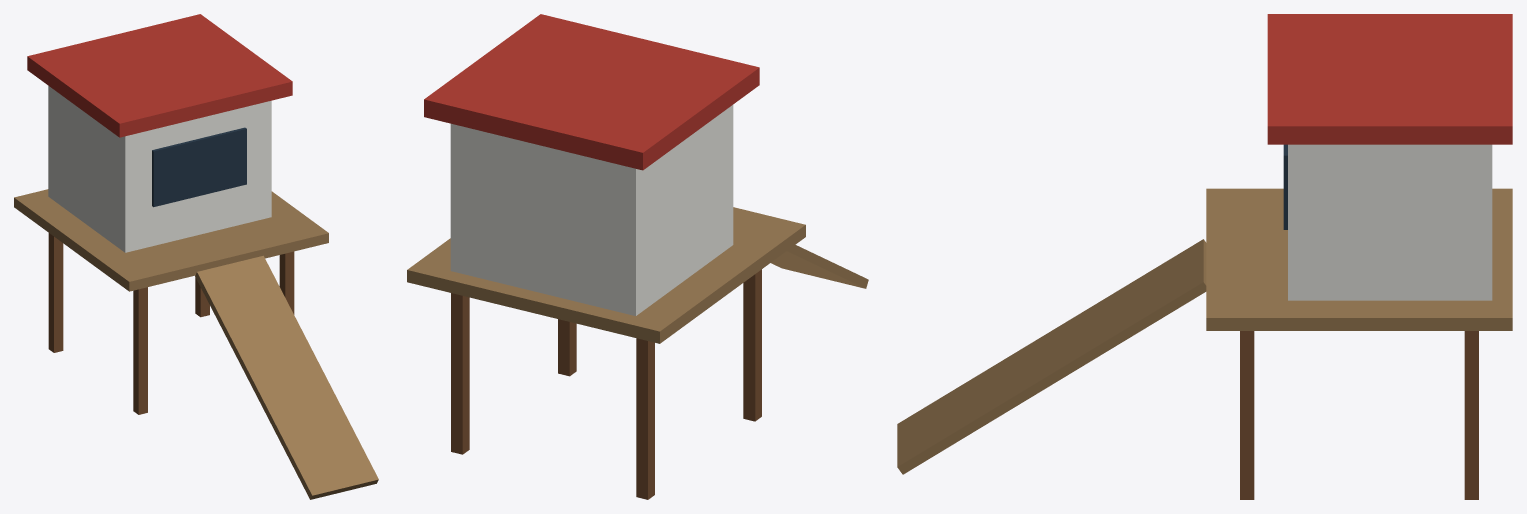
Rendered from lifeguard_tower.glb.
3 views of the same model, side by side, from view 1: azimuth 30°, elevation 25°; view 2: azimuth 150°, elevation 25°; view 3: azimuth 270°, elevation 25° (orthographic). The views are drawn at different scales.
Parts seen in each view (by area): view 1: lifeguard_tower_Body; view 2: lifeguard_tower_Body; view 3: lifeguard_tower_Body.
Boxes of the visible parts, x1=… form: lifeguard_tower_Body: x1=14, y1=14, x2=378, y2=499; lifeguard_tower_Body: x1=407, y1=14, x2=868, y2=499; lifeguard_tower_Body: x1=897, y1=14, x2=1512, y2=499.
Size of the model in its own units: 3 by 4.14 by 6.03.
